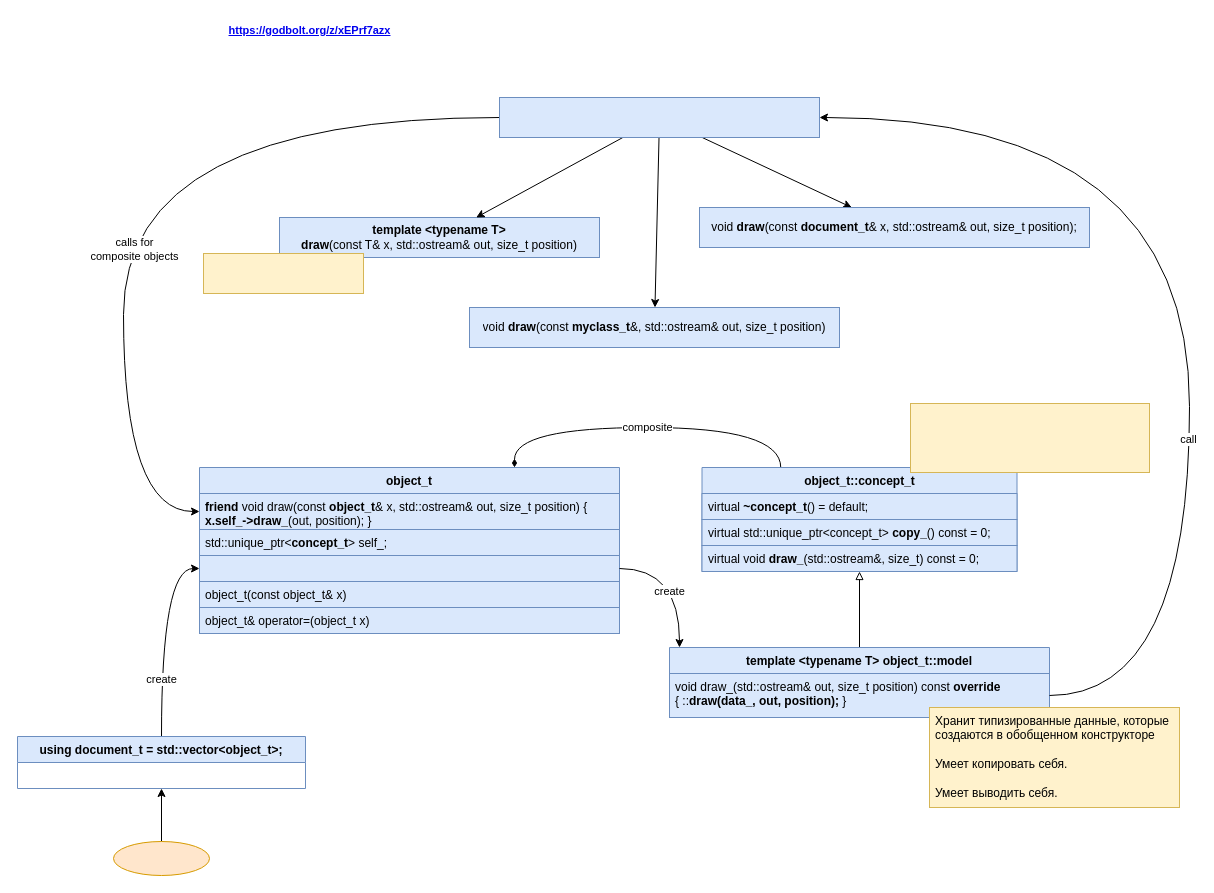
This 1214x893 diagram has some shape labels left out. The centre of each missing label's shape, as x and y in pixels:
"BEGIN" belongs at pixel 161 858.
"object_t(T x) : self_ (std:: make_unique <model<T>>(std::move(x)))" belongs at pixel 409 568.
"overload set" belongs at pixel 659 117.
"для type erasure Об этом полморфизме снаружи object_t никто не знает" belongs at pixel 1030 437.
"Умеет печатать все, что выводится в поток ostream" belongs at pixel 283 273.
